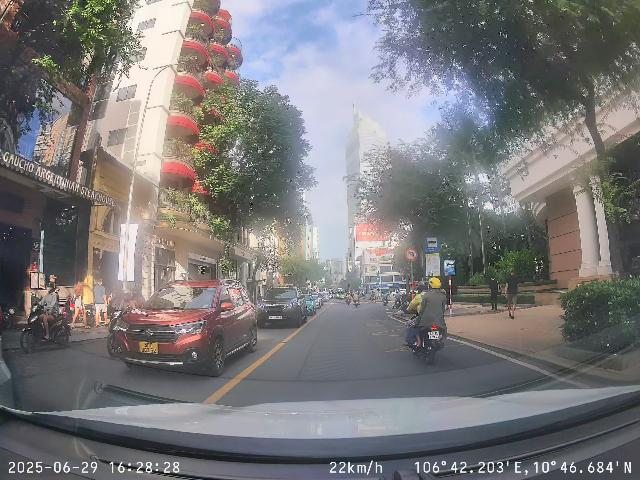123a-cam-re-trai: (404, 248, 418, 261)
